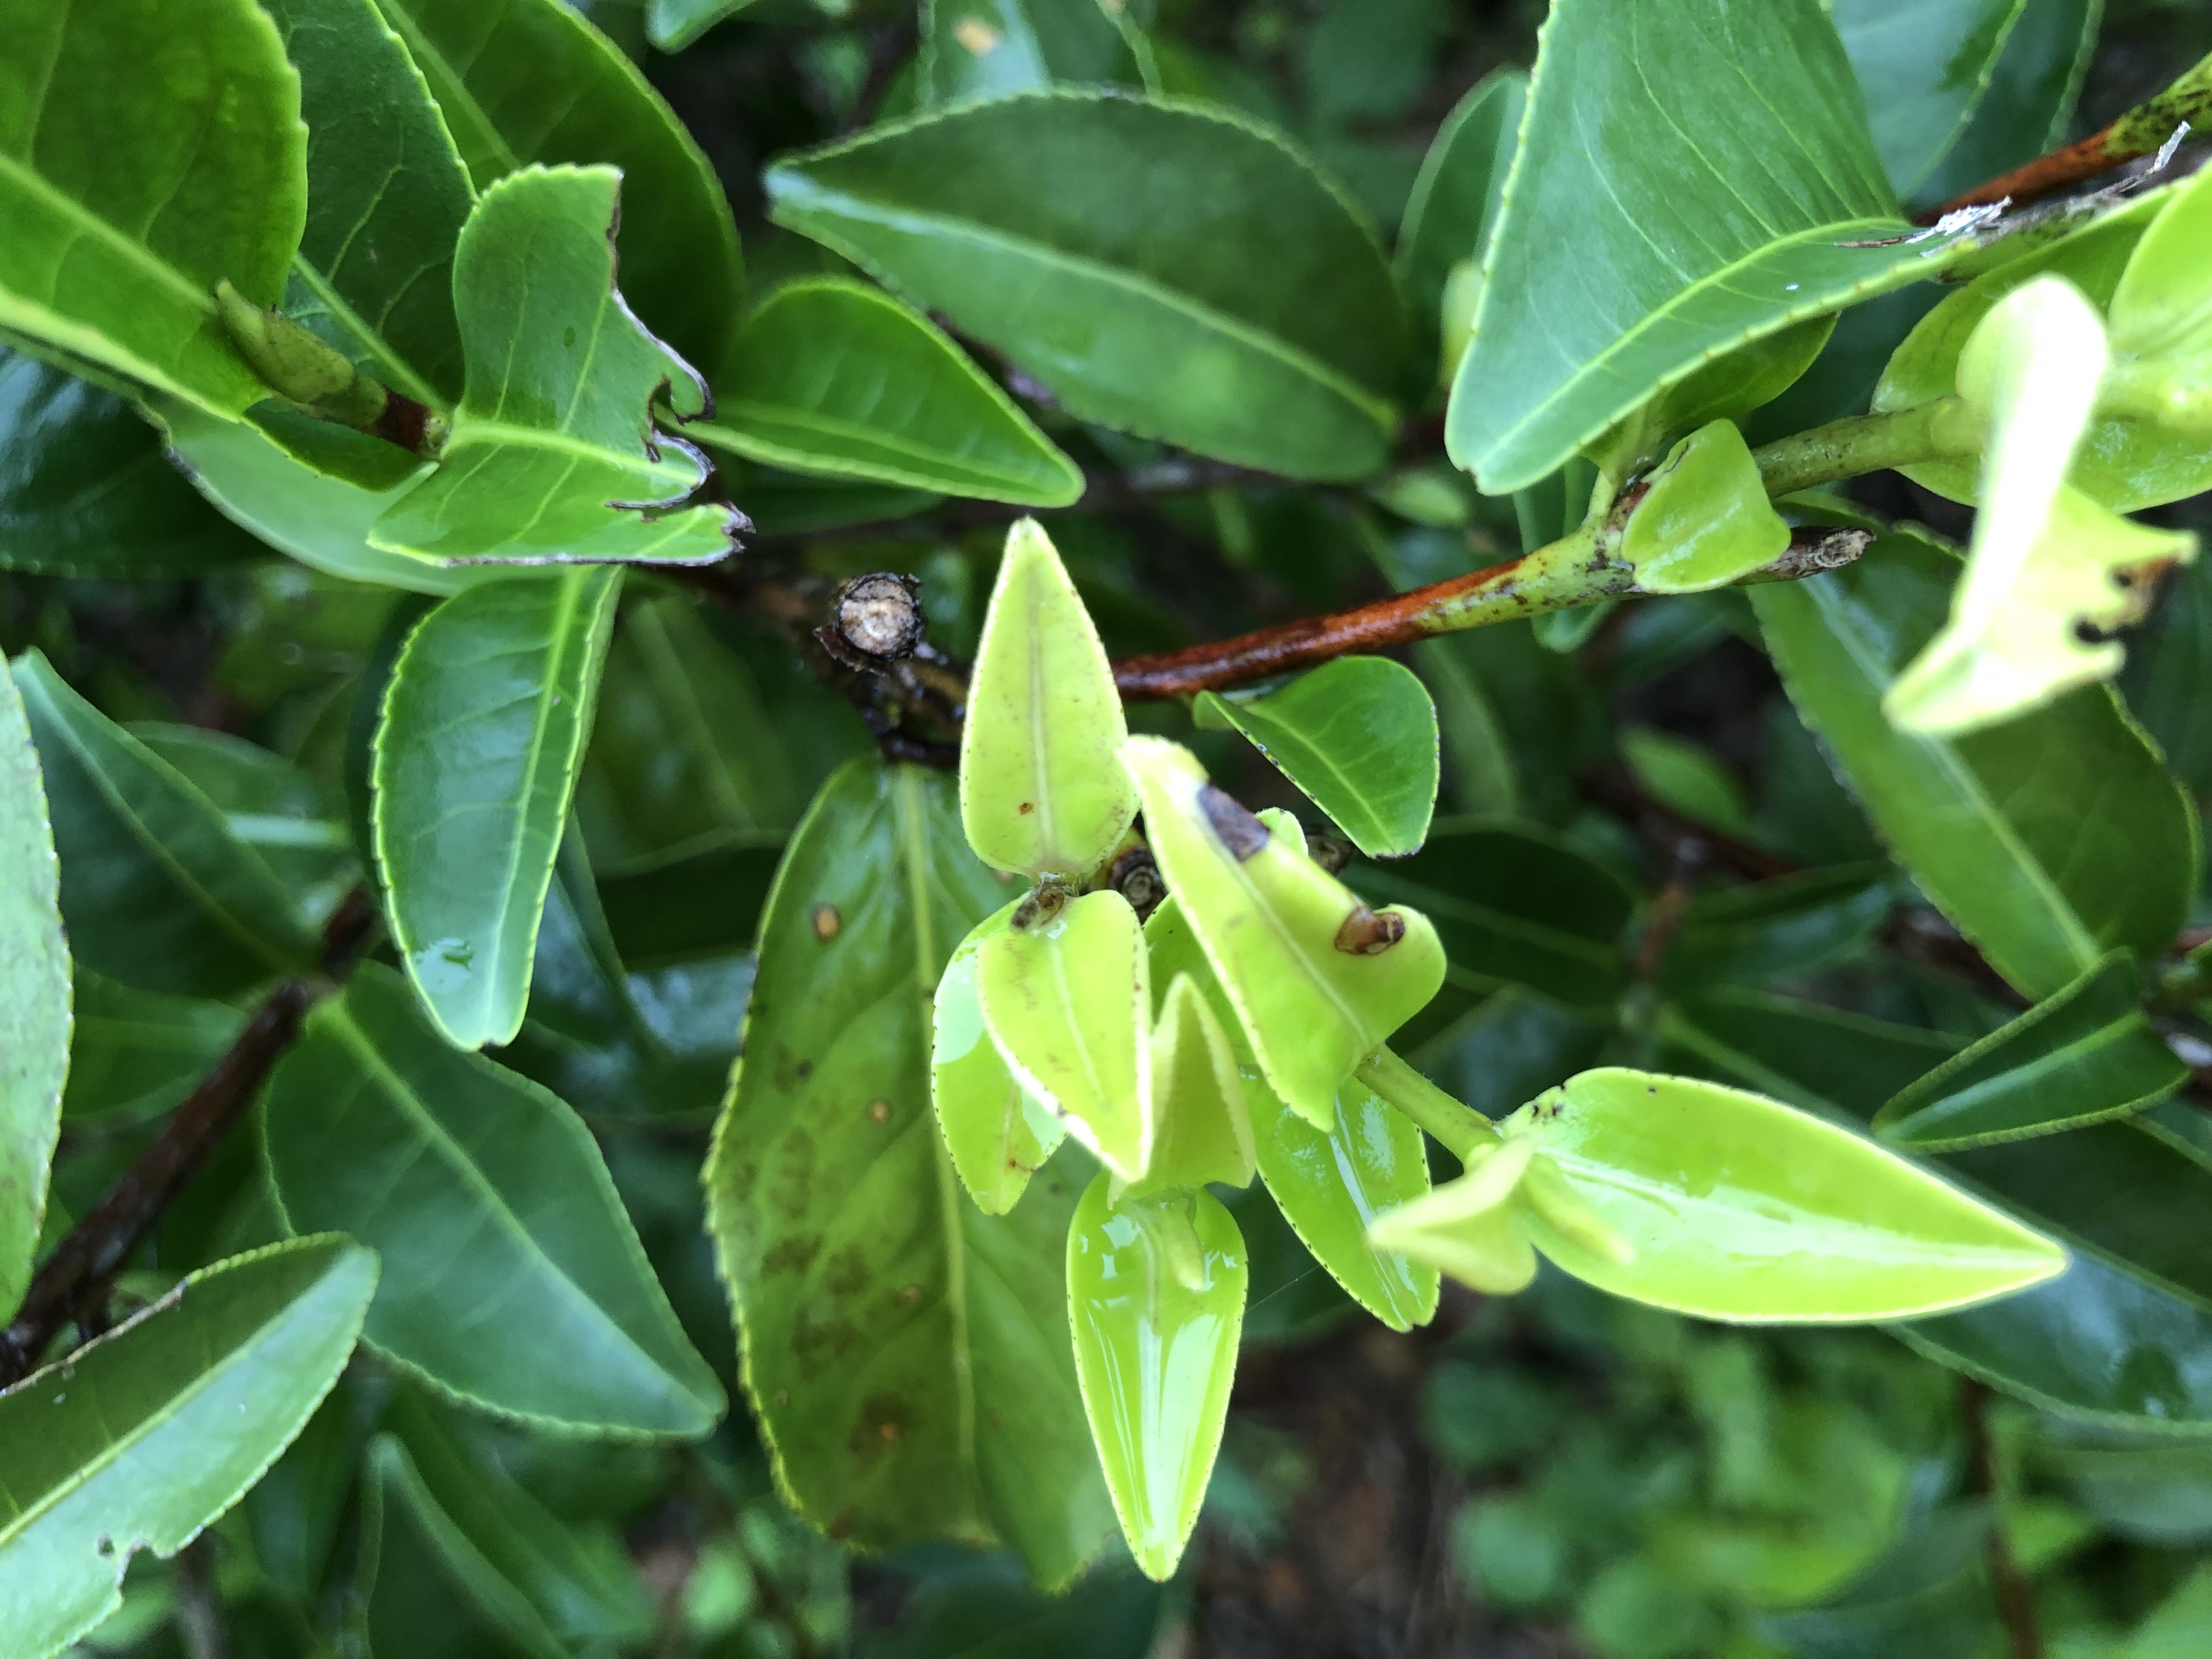fungi_early: (951, 504, 1141, 887), (960, 887, 1184, 1182)
mosquito_early: (1141, 728, 1451, 1122)
mosquito_late: (1118, 723, 1446, 1119)
